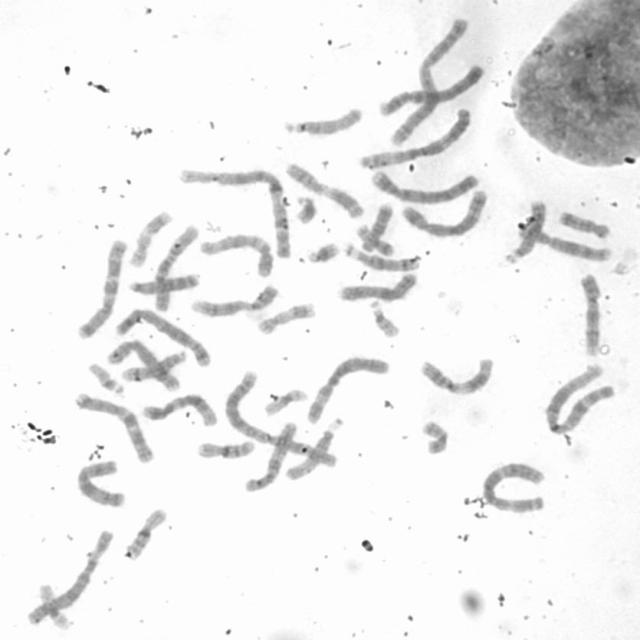A1: (174, 163, 294, 260), (540, 361, 616, 435)
A2: (384, 12, 473, 150), (219, 367, 337, 470)
A3: (354, 103, 475, 170), (478, 457, 549, 514)
B4: (373, 58, 488, 118), (367, 165, 482, 205)
B5: (110, 304, 213, 370), (397, 185, 489, 238)
C10: (149, 220, 201, 314), (242, 417, 300, 493)
C11: (282, 158, 366, 219), (414, 351, 496, 397)
C12: (194, 229, 276, 278), (136, 389, 220, 427)
C6: (23, 524, 117, 628), (300, 350, 391, 426)
C7: (70, 386, 156, 464), (71, 234, 129, 340)
C8: (103, 335, 184, 393), (517, 220, 613, 263)
C9: (188, 282, 282, 318), (576, 268, 604, 358)
D13: (501, 196, 549, 264), (127, 268, 203, 296)
D14: (120, 346, 192, 382), (342, 240, 421, 272)
D15: (283, 414, 349, 483), (280, 102, 366, 137)
E16: (121, 503, 169, 561), (193, 435, 258, 461)
E17: (126, 207, 174, 268), (252, 297, 319, 336)
E18: (358, 199, 396, 256), (554, 206, 612, 240)
F19: (35, 580, 74, 632), (259, 383, 310, 417)
F20: (353, 221, 397, 257), (417, 416, 451, 456)
G21: (303, 237, 341, 265), (292, 190, 320, 226)
G22: (85, 359, 127, 396), (366, 297, 402, 339)
X: (72, 456, 127, 508), (336, 269, 420, 303)
